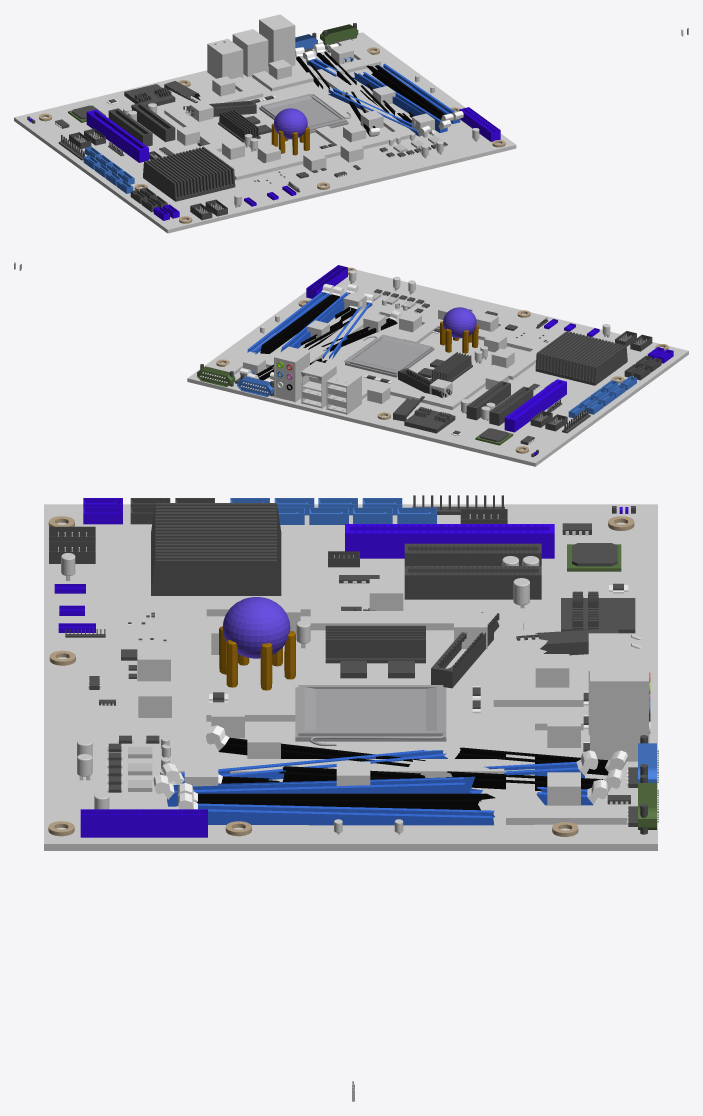
File: MotherBoard Map 5.fbx
3 views of the same model, one above another, from view 1: azimuth 30°, elevation 25°; view 2: azimuth 150°, elevation 25°; view 3: azimuth 270°, elevation 25° (orthographic). The views are drawn at different scales.
Visible parts, largest first — view 1: Cube, Box015, Box150, Box093, Box065, Box082, Box073, Cube.046, Cube.051, Box117, Box116, Box115.001 (+28 smaller); view 2: Cube, Box015, Box150, Box093, Box065, Box082, Box073, Box115.001, Box069, Box117, Box118, Box067 (+24 smaller); view 3: Cube, Box015, Box150, Box093, Box118, Box065, Box117, Box067, Box115.001, Box070, Box006, Box113 (+28 smaller).
Boxes of the visible parts, x1,y1,x2,y2 form: Cube: (14, 32, 516, 233); Box015: (143, 146, 235, 201); Box150: (259, 93, 348, 133); Box093: (259, 14, 295, 66); Box065: (86, 109, 148, 162); Box082: (207, 38, 243, 78); Box073: (232, 29, 268, 76); Cube.046: (264, 56, 381, 91); Cube.051: (234, 145, 340, 180); Box117: (328, 43, 451, 132); Box116: (303, 50, 430, 136); Box115.001: (366, 65, 453, 120); Cube: (187, 269, 688, 466); Box015: (535, 331, 627, 385); Box150: (345, 334, 434, 377); Box093: (274, 346, 309, 402); Box065: (504, 379, 566, 432); Box082: (326, 370, 361, 414); Box073: (301, 361, 336, 408); Box115.001: (260, 286, 344, 353); Box069: (393, 368, 451, 421); Box117: (239, 284, 358, 376); Box118: (247, 284, 333, 354); Box067: (466, 381, 510, 420); Cube: (44, 504, 657, 850); Box015: (151, 503, 281, 595); Box150: (295, 685, 446, 741); Box093: (590, 660, 649, 761); Box118: (178, 792, 494, 825); Box065: (345, 524, 554, 558); Box117: (153, 774, 607, 806); Box067: (404, 566, 541, 599); Box115.001: (178, 783, 495, 810); Box070: (325, 625, 425, 663); Box006: (80, 809, 207, 837); Box113: (205, 725, 627, 775).
Size of the model in its own units: 29146 by 2207 by 12998.
